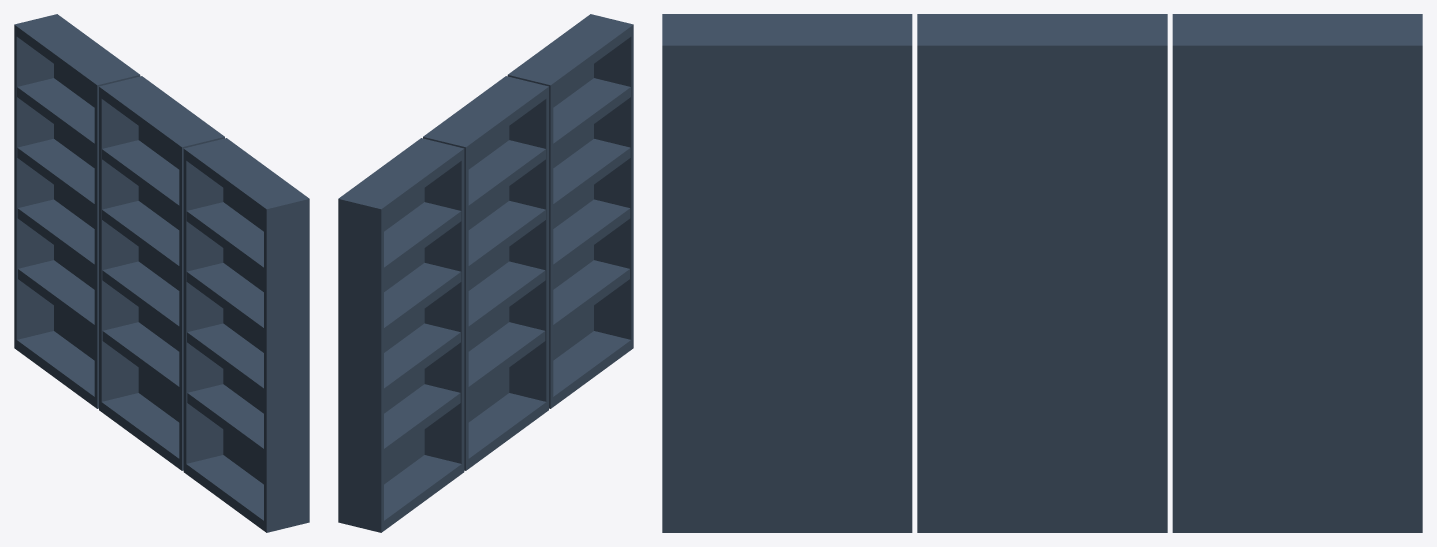
The model's file is Base Color Shelves.fbx.
The picture shows the model from 3 angles, left to right: view 1: azimuth 30°, elevation 25°; view 2: azimuth 150°, elevation 25°; view 3: azimuth 270°, elevation 25°; orthographic projection. The views are drawn at different scales.
Visible parts, largest first — view 1: Cube.001; view 2: Cube.001; view 3: Cube.001.
Part boxes in pixels (left/top/right/bottom): Cube.001: left=14, top=14, right=309, bottom=532; Cube.001: left=338, top=14, right=633, bottom=532; Cube.001: left=662, top=14, right=1422, bottom=532.
Bounding box in the file's own units: 151 × 1083 × 1531.
